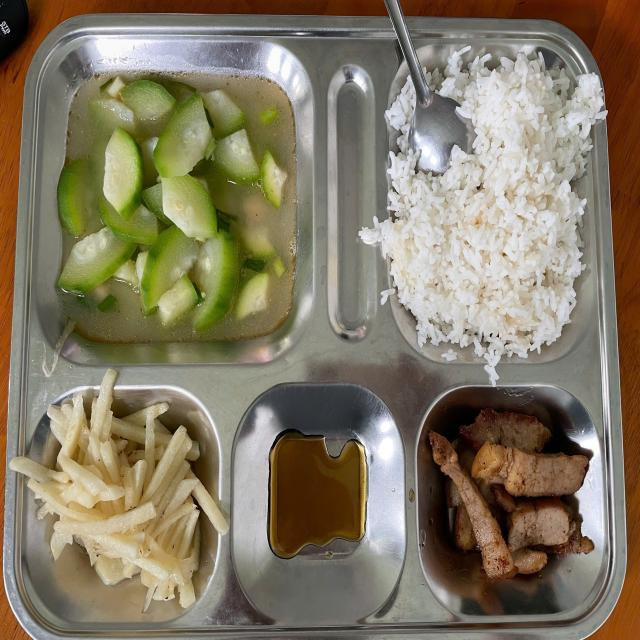canhbixanh: (54, 75, 297, 338)
salad: (396, 66, 590, 350)
suon: (20, 380, 218, 599)
teprim: (424, 408, 599, 582)
